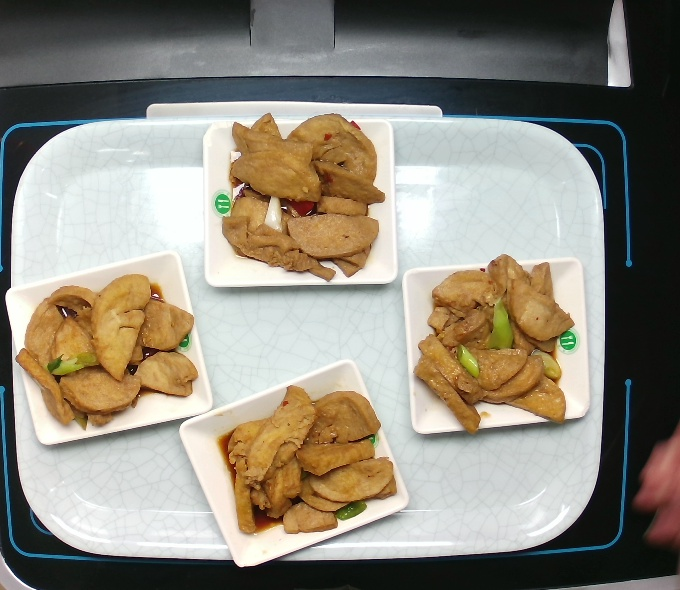wcq-SuJi: (208, 103, 384, 286), (411, 249, 585, 433), (214, 377, 399, 546), (14, 266, 196, 435)
